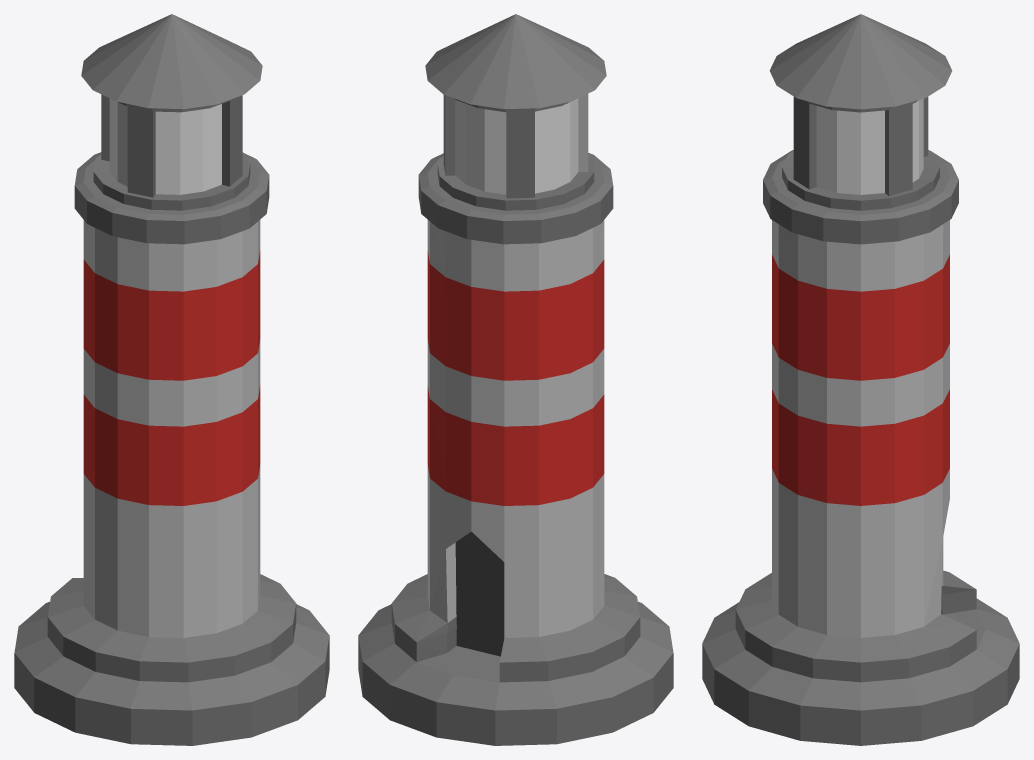
The model's file is Lighthouse.dae.
3 renders of one model, left to right at view 1: azimuth 30°, elevation 25°; view 2: azimuth 150°, elevation 25°; view 3: azimuth 270°, elevation 25°, orthographic.
Visible parts, largest first — view 1: Cylinder; view 2: Cylinder; view 3: Cylinder.
Boxes of the visible parts, box(x1,y1,x2,y2) form: Cylinder: box(14, 14, 329, 745); Cylinder: box(358, 14, 673, 745); Cylinder: box(702, 14, 1019, 745).
Bounding box in the file's own units: 3.57 × 3.57 × 8.24.
